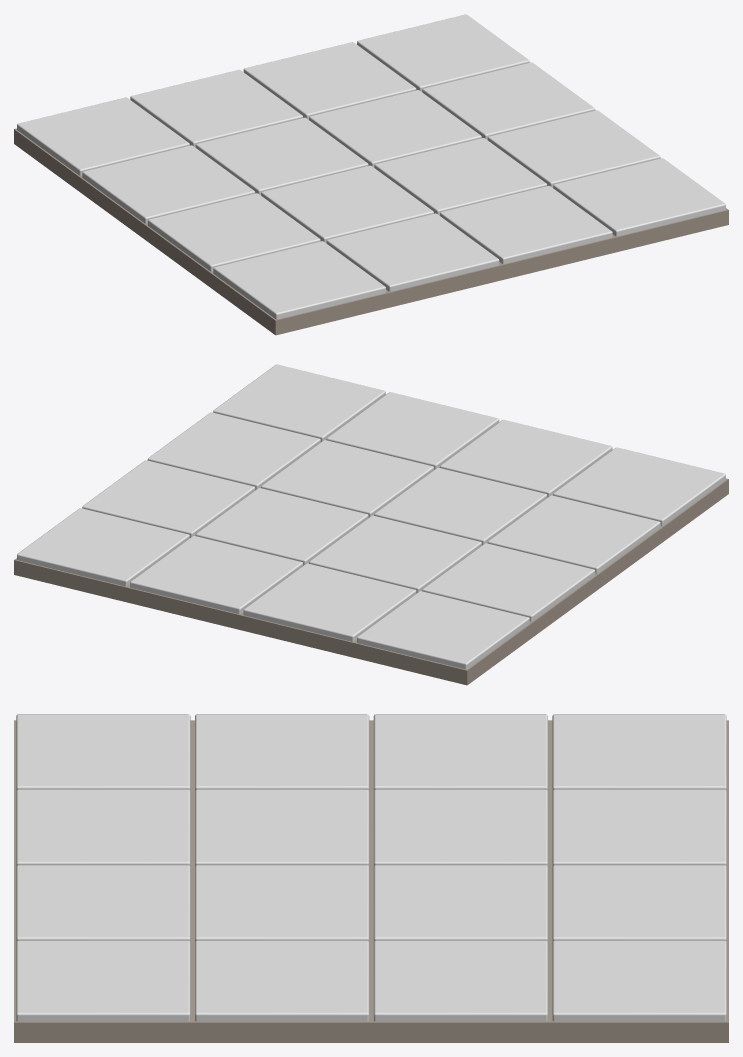
The model's file is Lobby_PROP_FloorMarble.fbx.
The picture shows the model from 3 angles, top to bottom: view 1: azimuth 30°, elevation 25°; view 2: azimuth 150°, elevation 25°; view 3: azimuth 270°, elevation 25°; orthographic projection. The views are drawn at different scales.
Visible parts, largest first — view 1: Lobby_PROP_FloorMarble__MarbleLavender, Lobby_PROP_FloorMarble__Marble, Lobby_PROP_FloorMarble__Grout; view 2: Lobby_PROP_FloorMarble__Marble, Lobby_PROP_FloorMarble__MarbleLavender, Lobby_PROP_FloorMarble__Grout; view 3: Lobby_PROP_FloorMarble__Marble, Lobby_PROP_FloorMarble__MarbleLavender, Lobby_PROP_FloorMarble__Grout.
Part boxes in pixels (x1,y1,x2,y2): Lobby_PROP_FloorMarble__MarbleLavender: (17,42,725,291); Lobby_PROP_FloorMarble__Marble: (82,14,660,319); Lobby_PROP_FloorMarble__Grout: (14,128,728,335); Lobby_PROP_FloorMarble__Marble: (17,392,725,641); Lobby_PROP_FloorMarble__MarbleLavender: (82,364,660,669); Lobby_PROP_FloorMarble__Grout: (14,478,728,685); Lobby_PROP_FloorMarble__Marble: (16,714,726,1021); Lobby_PROP_FloorMarble__MarbleLavender: (16,714,726,1021); Lobby_PROP_FloorMarble__Grout: (14,720,728,1042).
Size of the model in its own units: 16 by 0.7 by 16.
